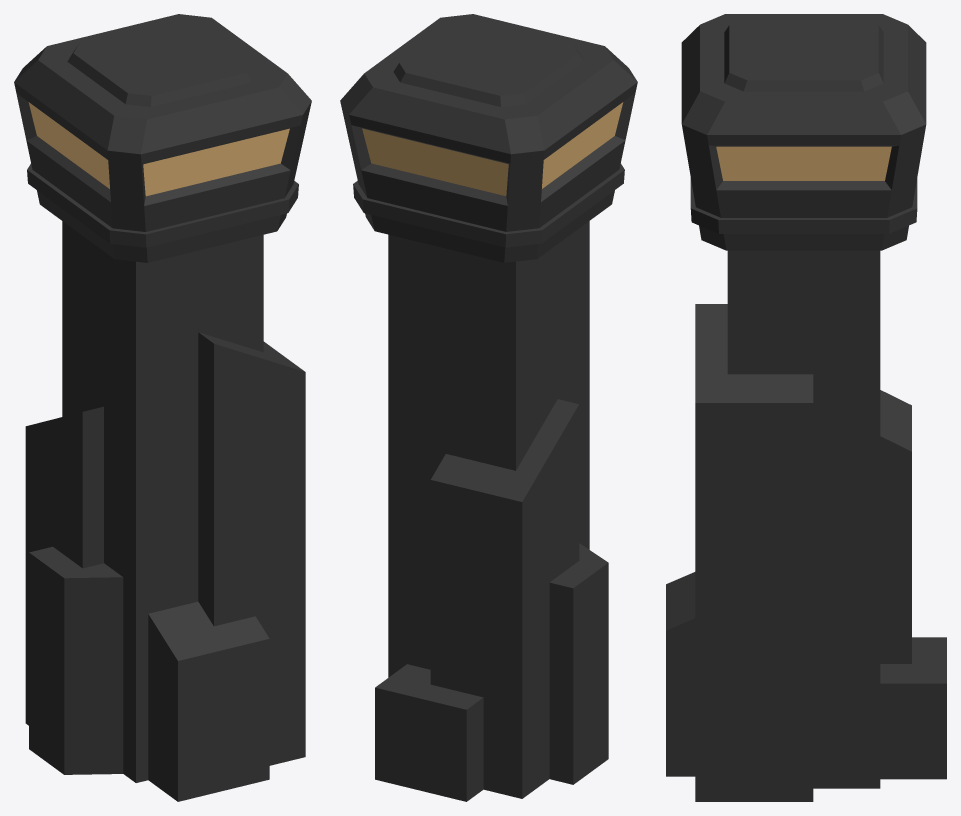
The model's file is SM_Bld_City_Wall_Tower_01.fbx.
3 views of the same model, side by side, from view 1: azimuth 30°, elevation 25°; view 2: azimuth 150°, elevation 25°; view 3: azimuth 270°, elevation 25° (orthographic). The views are drawn at different scales.
Visible parts, largest first — view 1: SM_Bld_City_Wall_Tower_01; view 2: SM_Bld_City_Wall_Tower_01; view 3: SM_Bld_City_Wall_Tower_01.
Part boxes in pixels (x1=…): SM_Bld_City_Wall_Tower_01: x1=14, y1=14, x2=311, y2=801; SM_Bld_City_Wall_Tower_01: x1=340, y1=14, x2=637, y2=801; SM_Bld_City_Wall_Tower_01: x1=666, y1=14, x2=946, y2=801.
Bounding box in the file's own units: 417 × 1288 × 463.
